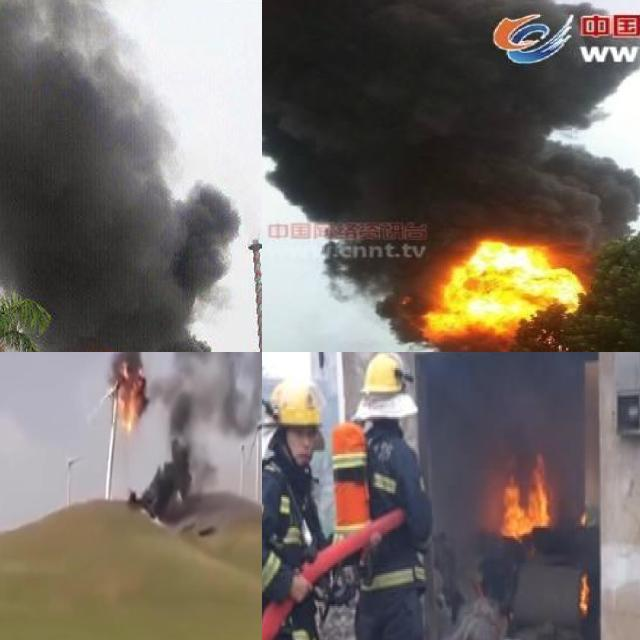fire: (422, 238, 588, 336), (497, 450, 552, 538), (113, 357, 145, 430), (578, 569, 590, 612)
smoke: (262, 0, 640, 352), (0, 0, 236, 352), (137, 352, 262, 522), (434, 352, 571, 455)
